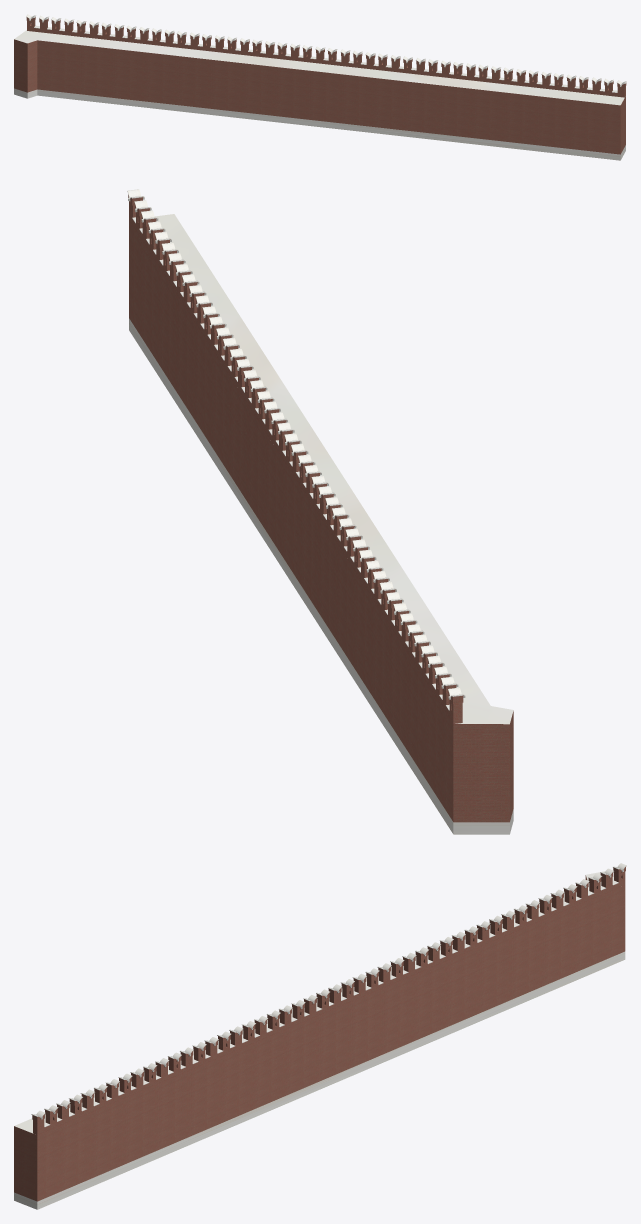
The model's file is 01080_Kremlevskaya_stena_12.FBX.
3 renders of one model, top to bottom at view 1: azimuth 30°, elevation 25°; view 2: azimuth 150°, elevation 25°; view 3: azimuth 270°, elevation 25°, orthographic. The views are drawn at different scales.
Visible parts, largest first — view 1: Group_336, Group_339, Group_338, Group_337; view 2: Group_336, Group_339, Group_338, Group_337; view 3: Group_336, Group_338, Group_337, Group_339.
Part boxes in pixels (<box>): Group_336: <box>14,39,625,154</box>; Group_339: <box>14,30,624,105</box>; Group_338: <box>14,88,625,160</box>; Group_337: <box>34,28,617,96</box>; Group_336: <box>129,220,513,822</box>; Group_339: <box>154,214,513,724</box>; Group_338: <box>129,318,513,834</box>; Group_337: <box>133,220,449,717</box>; Group_336: <box>14,875,625,1201</box>; Group_338: <box>14,951,625,1209</box>; Group_337: <box>44,883,618,1131</box>; Group_339: <box>14,871,613,1133</box>.
Size of the model in its own units: 68.63 by 11.35 by 67.11.
2 materials, 2 textured.
